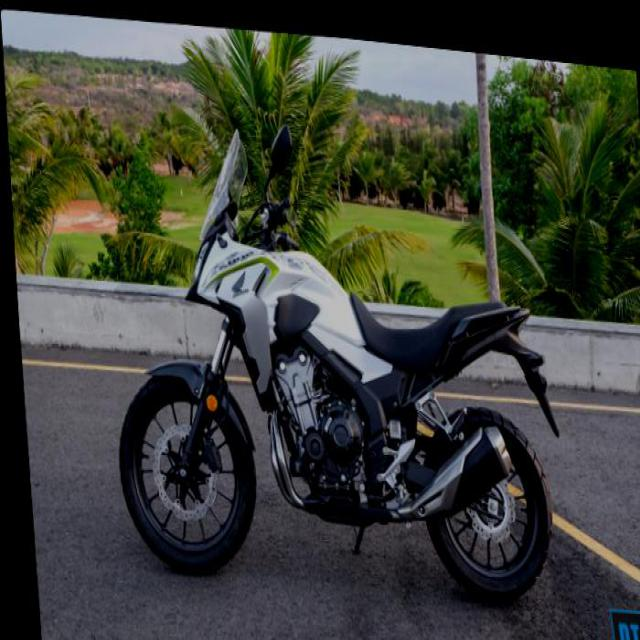CB500X: (92, 101, 566, 608)
